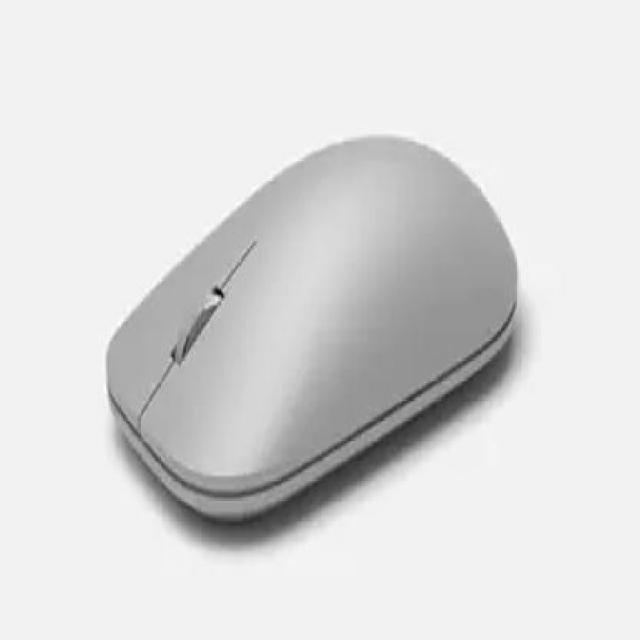not trash: (104, 135, 522, 518)
